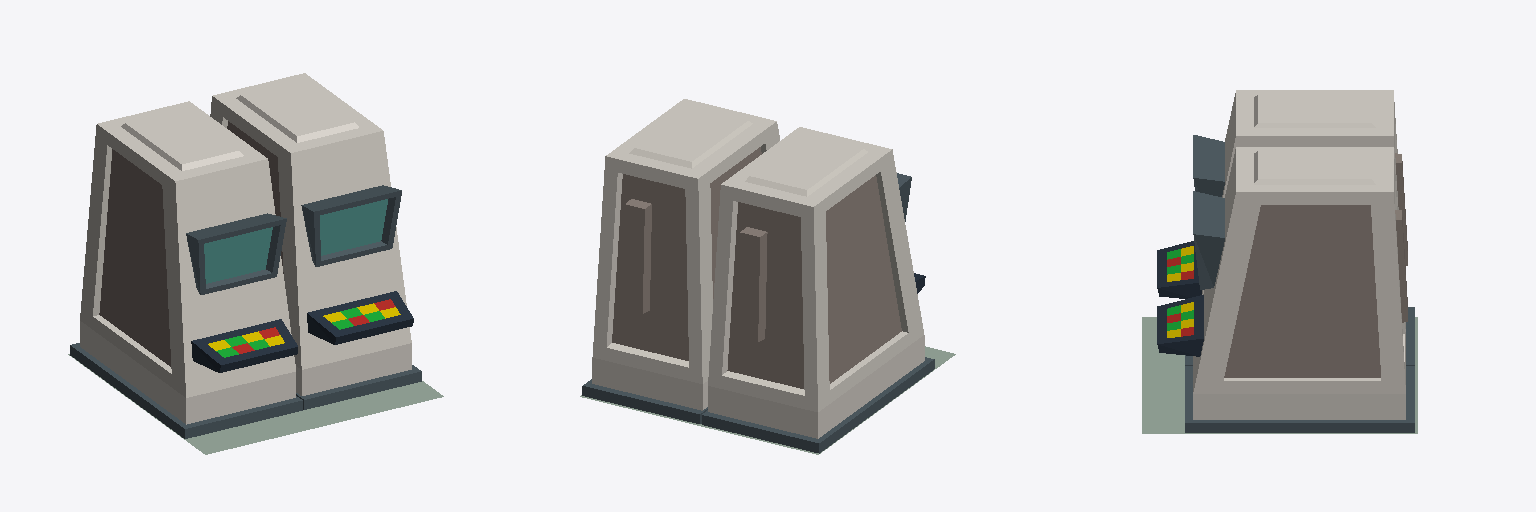
The picture shows the model from 3 angles: view 1: azimuth 30°, elevation 25°; view 2: azimuth 150°, elevation 25°; view 3: azimuth 270°, elevation 25°; orthographic projection.
Visible parts, largest first — view 1: Plane; view 2: Plane; view 3: Plane.
Part boxes in pixels (bbox=[...]): Plane: bbox=[68, 73, 443, 454]; Plane: bbox=[580, 99, 955, 454]; Plane: bbox=[1142, 90, 1417, 433].
Bounding box in the file's own units: 2 × 1.92 × 2.
1 materials, 1 textured.